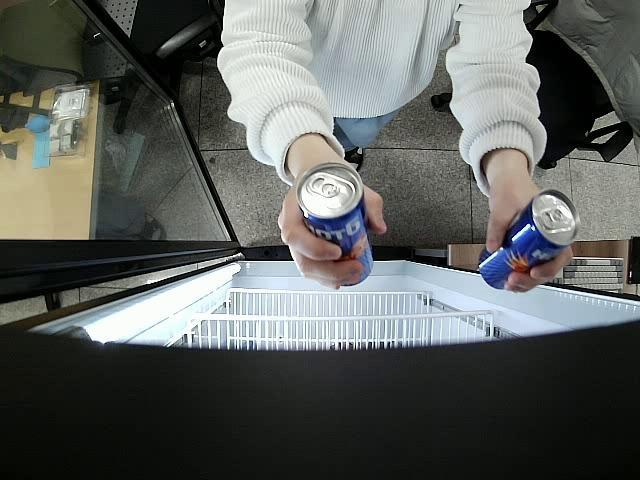16_hot6: (478, 190, 580, 292), (296, 162, 373, 286)
